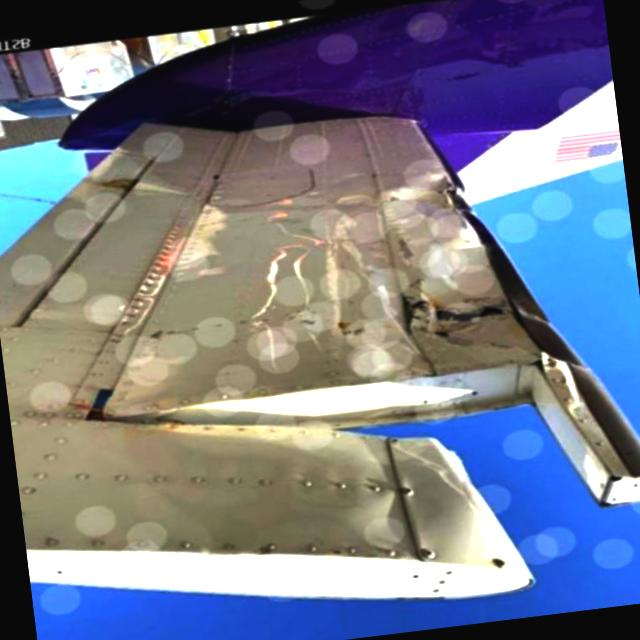dent: (398, 170, 459, 228)
